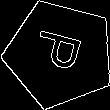P_E: (30, 29, 90, 79)
